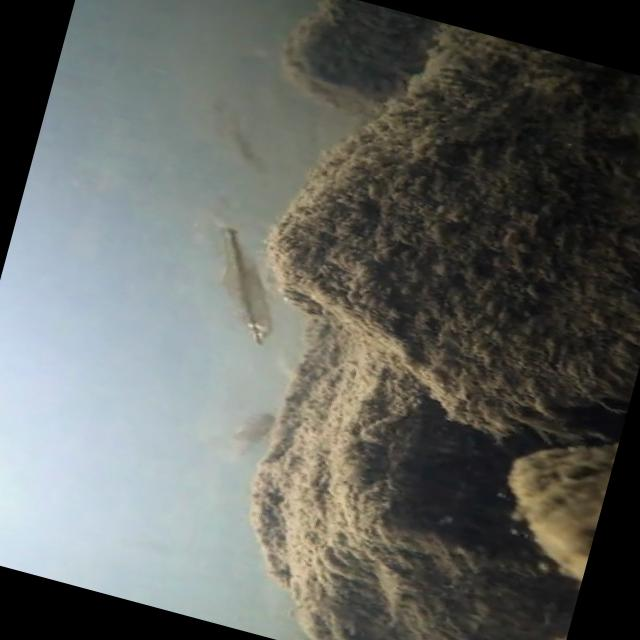Cakil Baligi: (168, 197, 311, 350)
